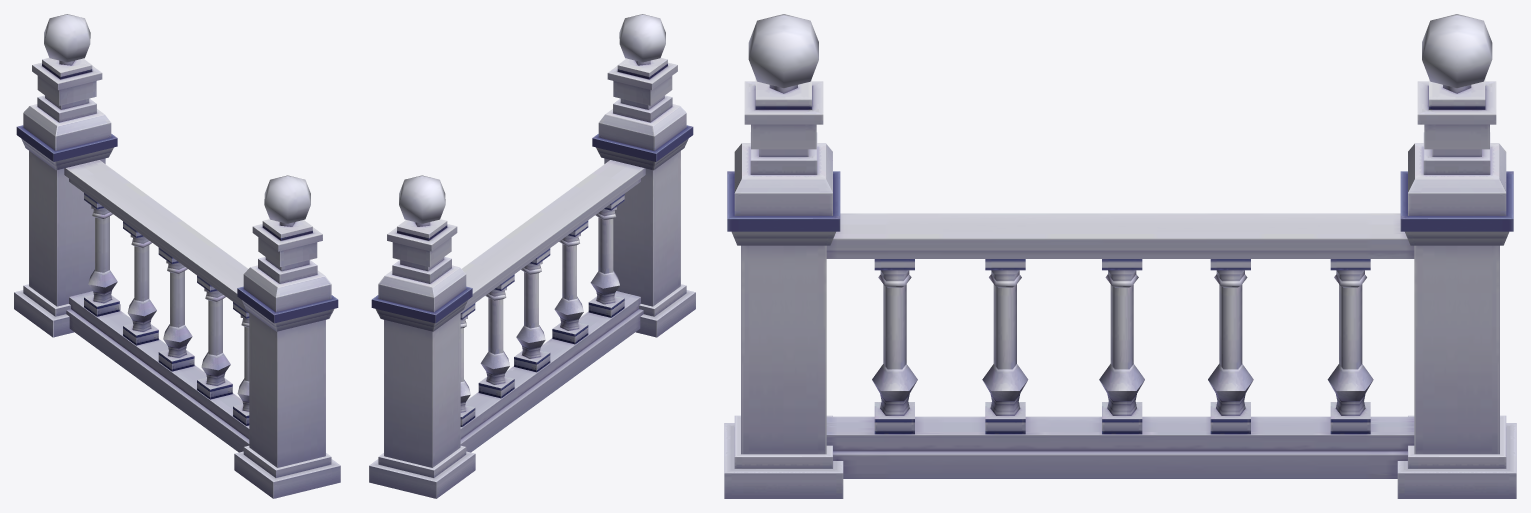
File: my_gehennaparty_01_fence_01.glb
3 views of the same model, side by side, from view 1: azimuth 30°, elevation 25°; view 2: azimuth 150°, elevation 25°; view 3: azimuth 270°, elevation 25° (orthographic). The views are drawn at different scales.
Parts seen in each view (by area): view 1: my_gehennaparty_01_fence_01; view 2: my_gehennaparty_01_fence_01; view 3: my_gehennaparty_01_fence_01.
Part boxes in pixels (x1,y1,x2,y2): my_gehennaparty_01_fence_01: (14,14,340,498); my_gehennaparty_01_fence_01: (369,14,695,498); my_gehennaparty_01_fence_01: (724,14,1516,498).
Bounding box in the file's own units: 0.0017 × 0.0072 × 0.0113.
1 material, 1 textured.
